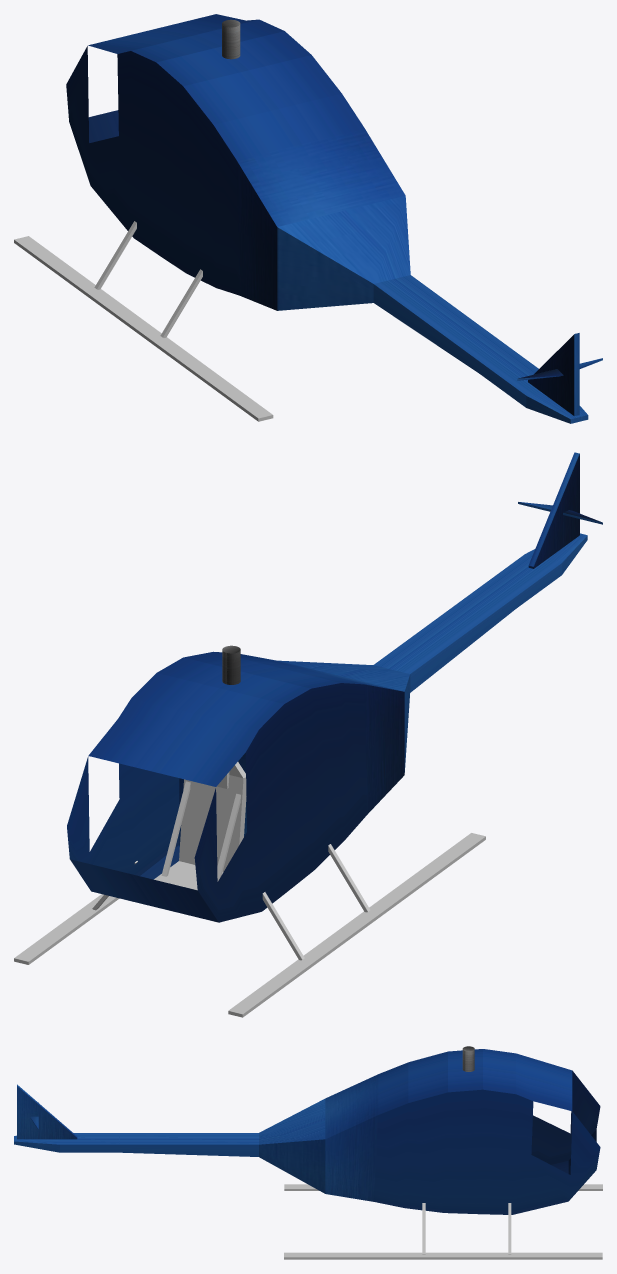
File: heli.obj
The picture shows the model from 3 angles, top to bottom: view 1: azimuth 30°, elevation 25°; view 2: azimuth 150°, elevation 25°; view 3: azimuth 270°, elevation 25°; orthographic projection. The views are drawn at different scales.
Visible parts, largest first — view 1: Cube, Cube.005, Cube.001, Cylinder; view 2: Cube, Cube.005, Cube.011, Cube.001, Cube.004, Cube.012; view 3: Cube, Cube.004, Cube.001, Cube.005, Cylinder.
Part boxes in pixels (x1,y1,x2,y2): Cube: [66, 14, 588, 423]; Cube.005: [14, 236, 273, 421]; Cube.001: [528, 333, 579, 416]; Cylinder: [222, 19, 240, 59]; Cube: [67, 533, 587, 922]; Cube.005: [228, 833, 485, 1017]; Cube.011: [179, 762, 246, 871]; Cube.001: [528, 452, 579, 568]; Cube.004: [14, 894, 119, 964]; Cube.012: [154, 861, 223, 890]; Cube: [14, 1049, 600, 1214]; Cube.004: [284, 1252, 602, 1259]; Cube.001: [17, 1084, 77, 1139]; Cube.005: [284, 1184, 602, 1190]; Cylinder: [462, 1046, 474, 1071].
Bounding box in the file's own units: 5.75 × 6.36 × 19.52.
